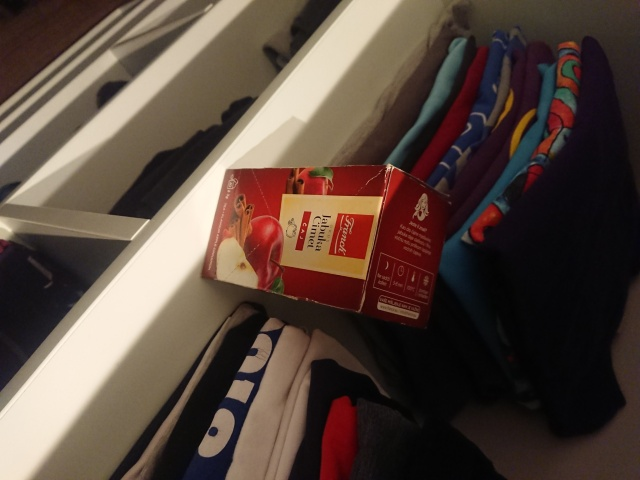Franck Apple Cinnamon Tea 60g: (197, 162, 454, 332)
